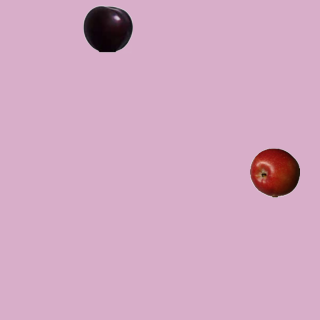Apple Braeburn: (249, 147, 299, 197)
Cherry Wax Black: (82, 3, 132, 53)
